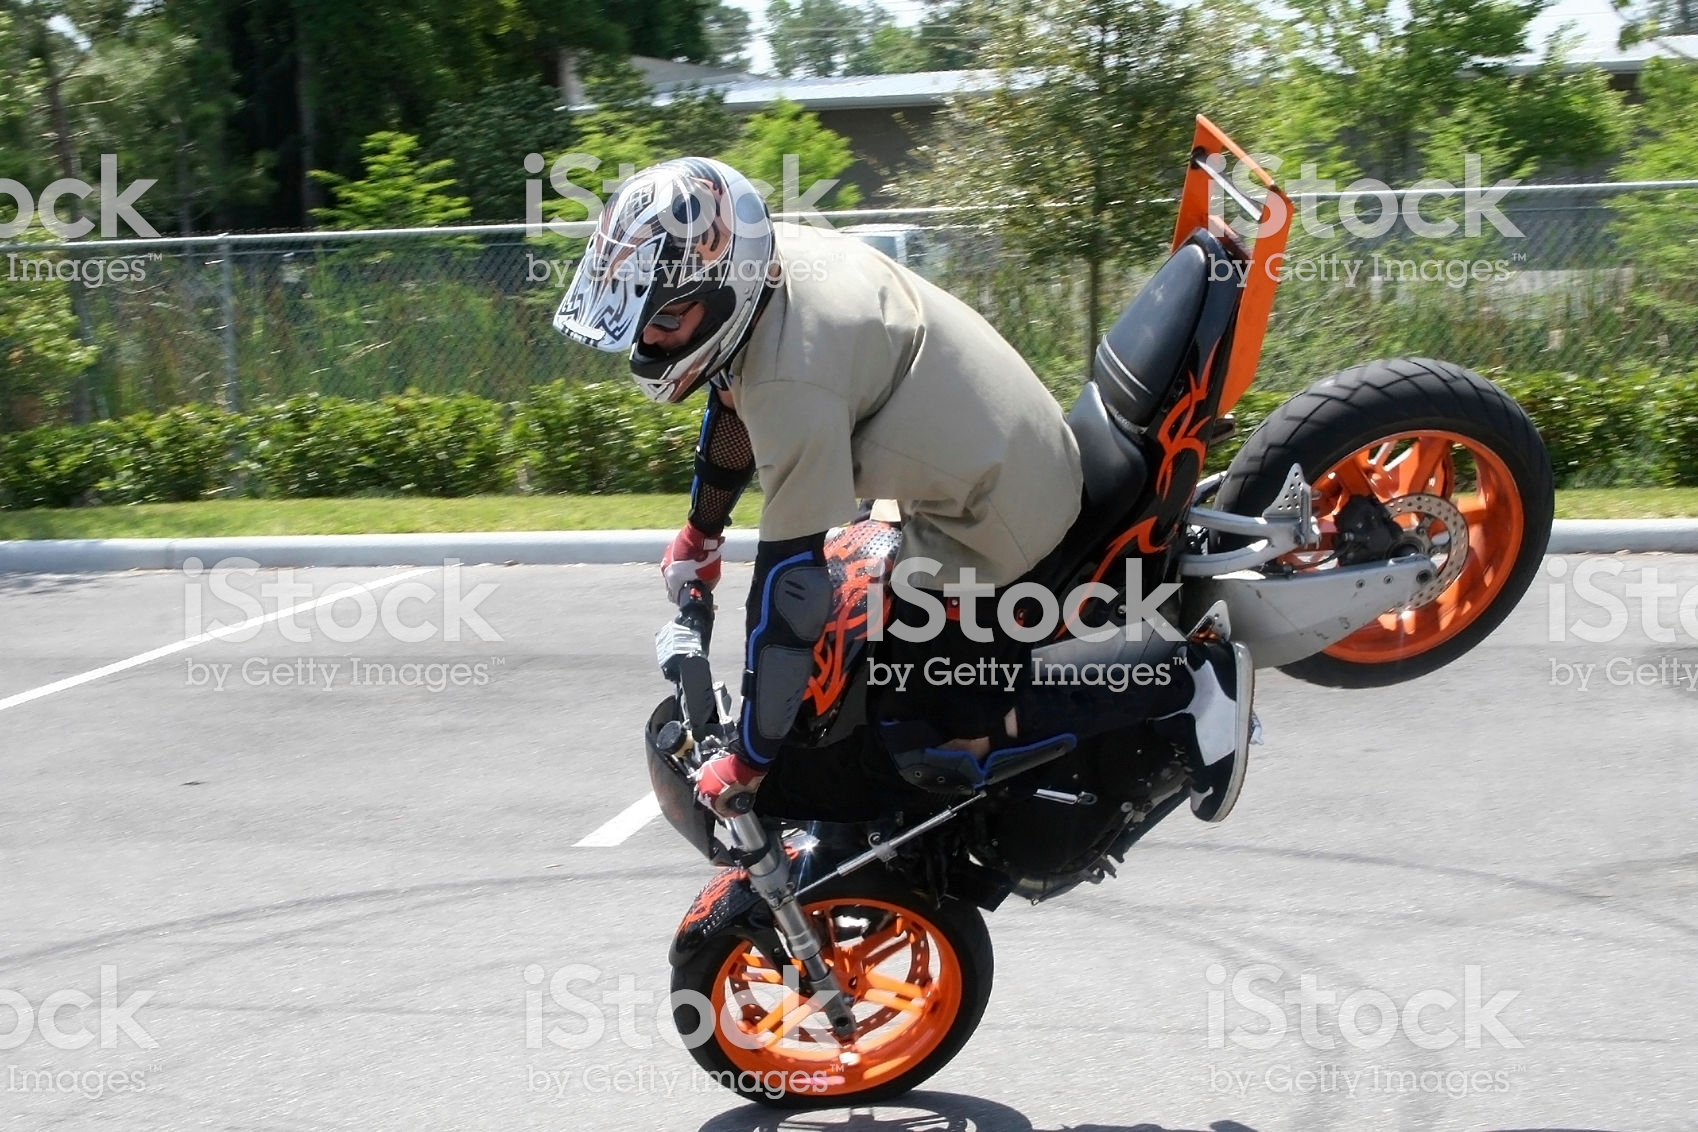helmet: (547, 171, 800, 392)
